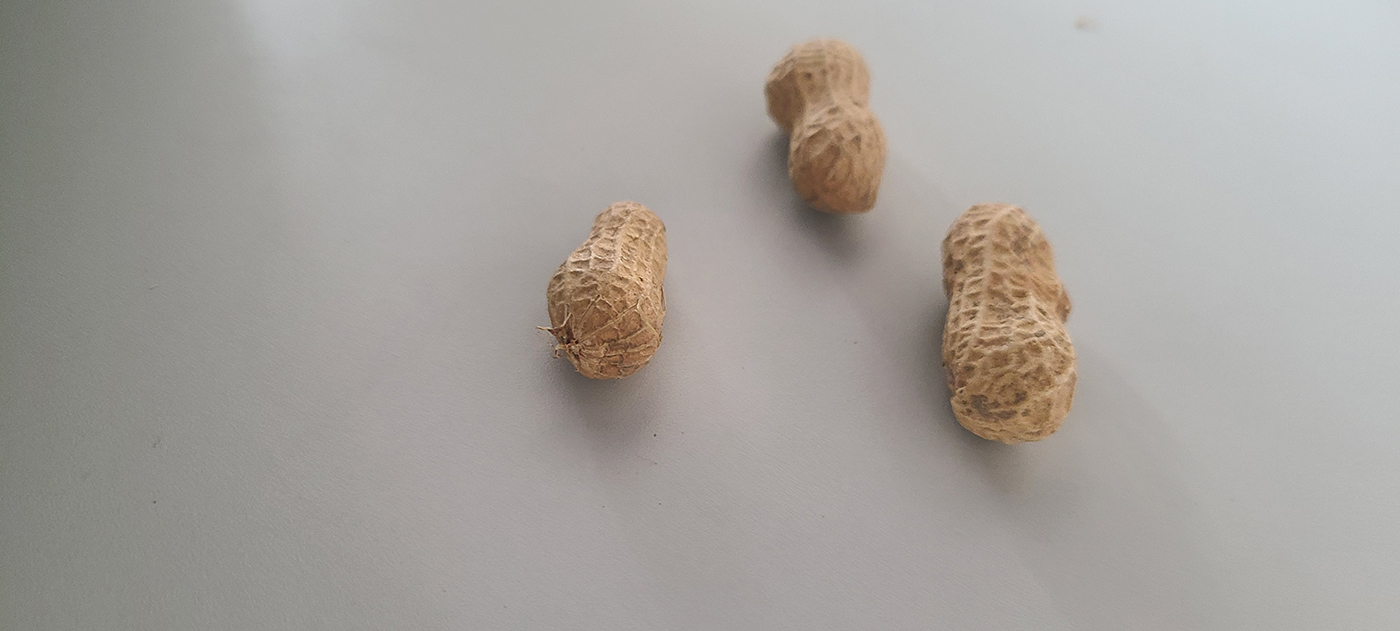h: (934, 197, 1079, 442), (764, 36, 890, 214), (546, 199, 670, 379)
